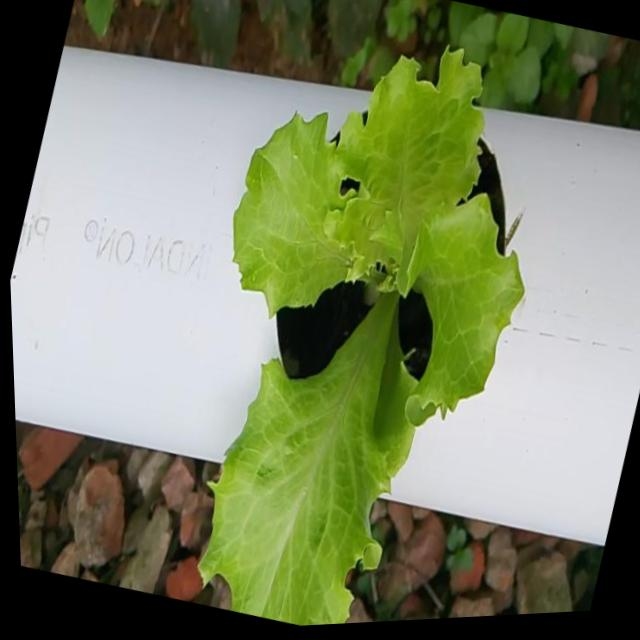Baby: (199, 37, 523, 626)
